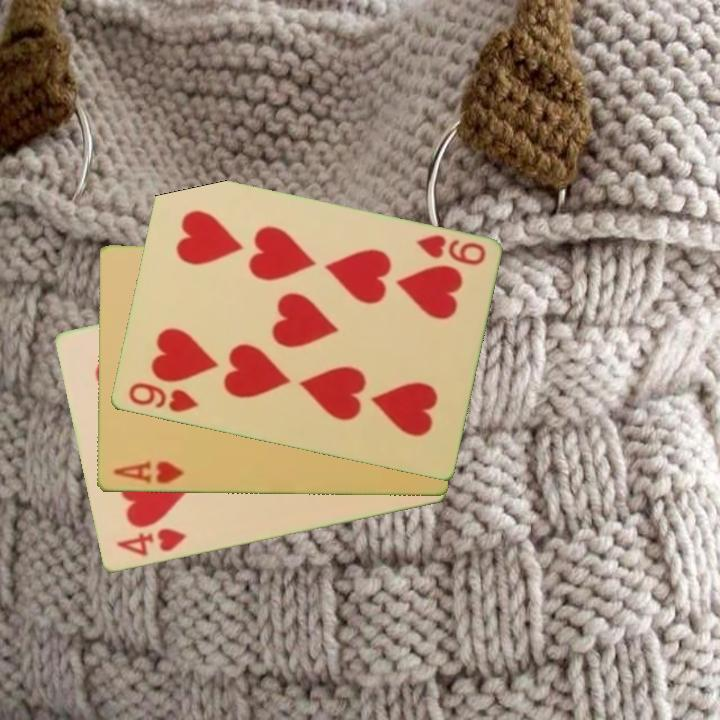4h: (112, 525, 189, 560)
9h: (412, 231, 488, 269), (124, 379, 201, 416)
Ah: (109, 457, 186, 487)
